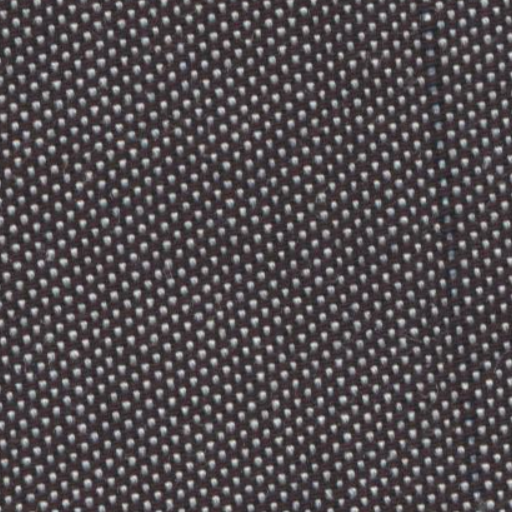TuoSha: (406, 6, 504, 507)
